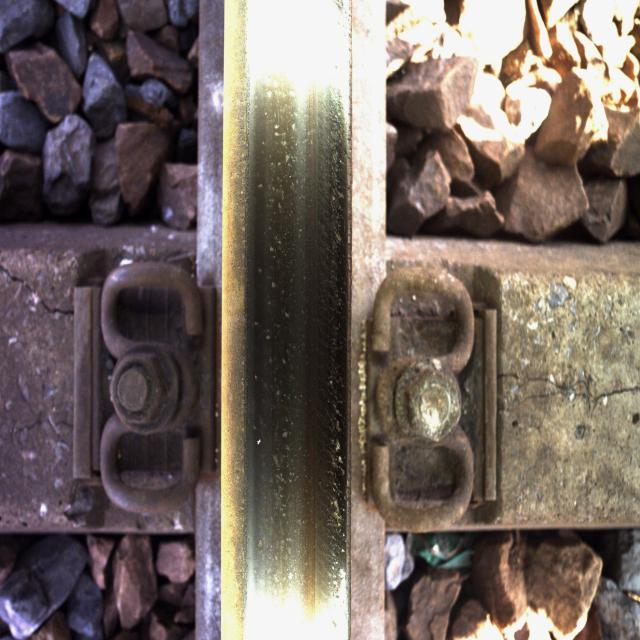normal: (245, 40, 345, 614)
